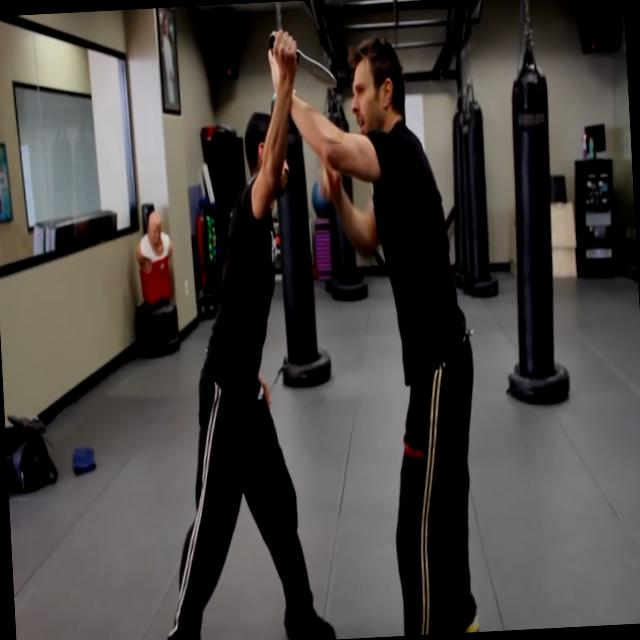knife: (264, 22, 342, 96)
